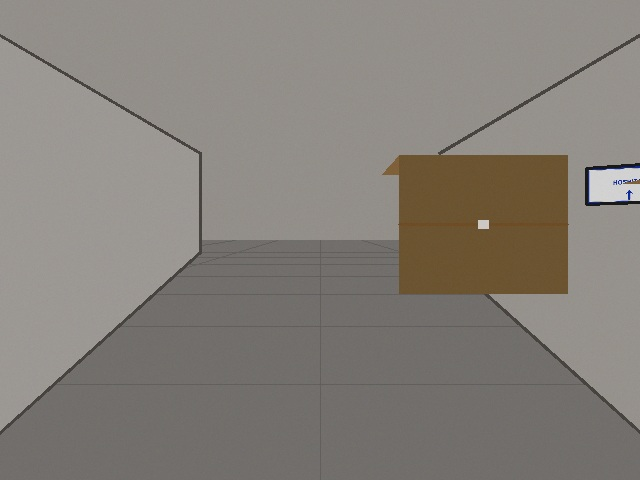box: (382, 155, 567, 293), (623, 171, 639, 283)
directional_sign: (586, 163, 639, 204)
